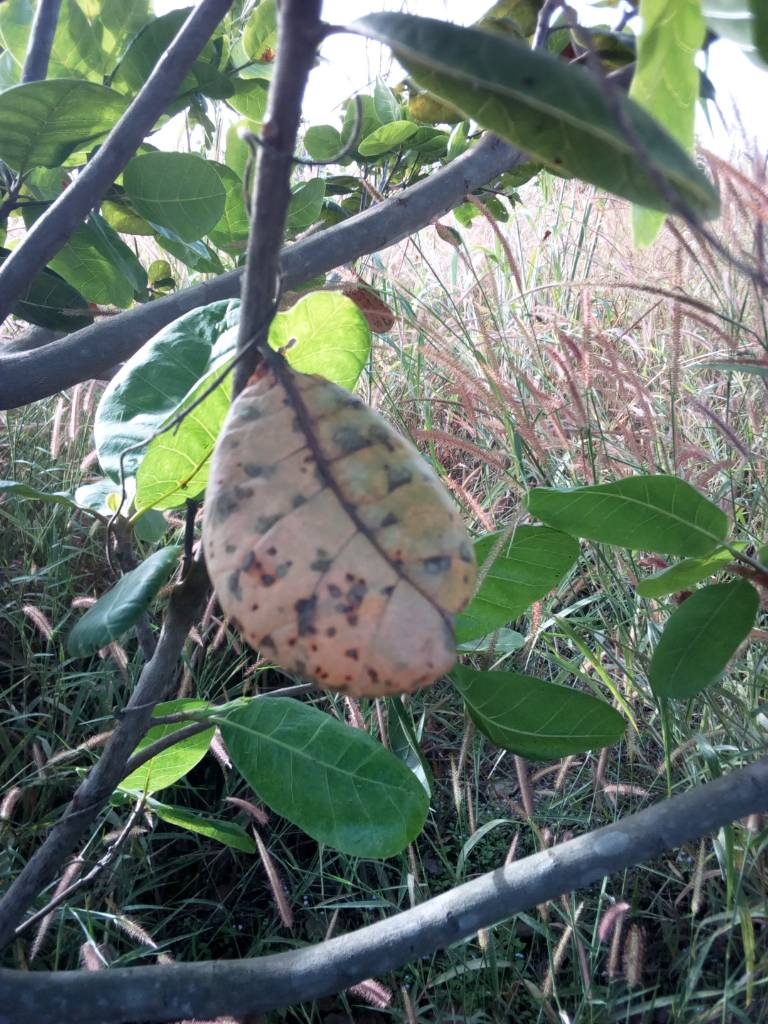Anthracnose: (208, 360, 472, 697)
